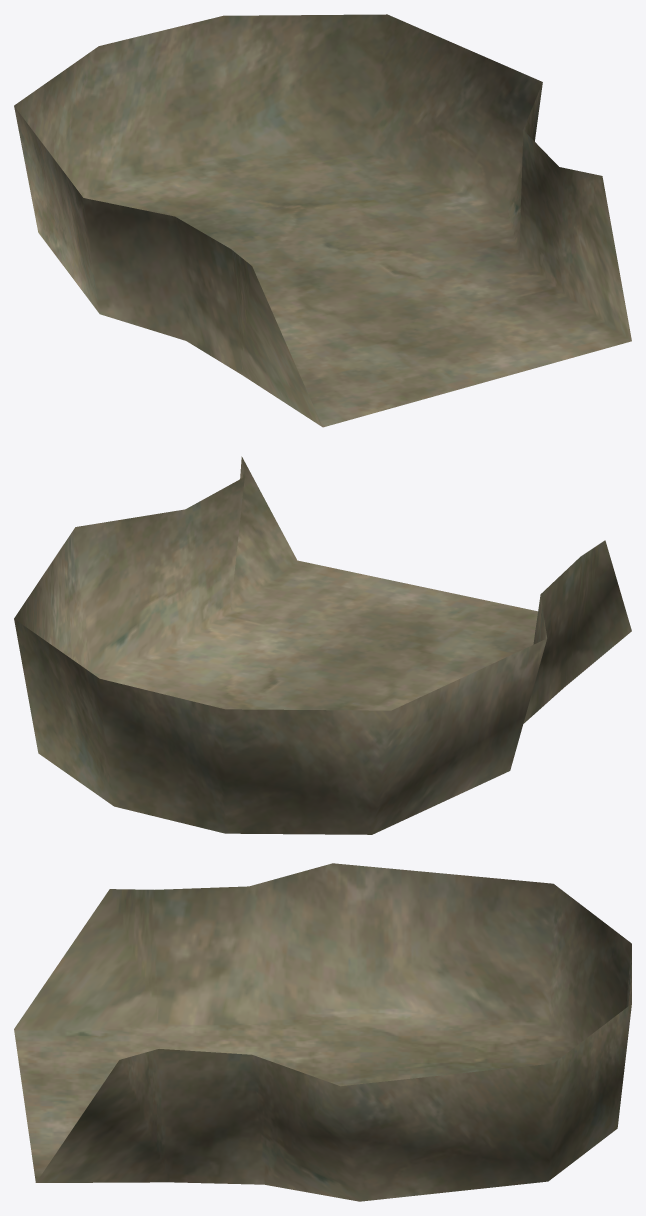
File: EKH_JAIL_PS_JA_OBJECT06.fbx
3 views of the same model, one above another, from view 1: azimuth 30°, elevation 25°; view 2: azimuth 150°, elevation 25°; view 3: azimuth 270°, elevation 25° (orthographic). The views are drawn at different scales.
Parts seen in each view (by area): view 1: EKH_JAIL_PS_JA_OBJECT06; view 2: EKH_JAIL_PS_JA_OBJECT06; view 3: EKH_JAIL_PS_JA_OBJECT06.
Part boxes in pixels (<box>): EKH_JAIL_PS_JA_OBJECT06: <box>14,14,631,427</box>; EKH_JAIL_PS_JA_OBJECT06: <box>14,456,631,834</box>; EKH_JAIL_PS_JA_OBJECT06: <box>14,863,631,1201</box>.
Bounding box in the file's own units: 12900 × 3491 × 15111.
1 material, 1 textured.
